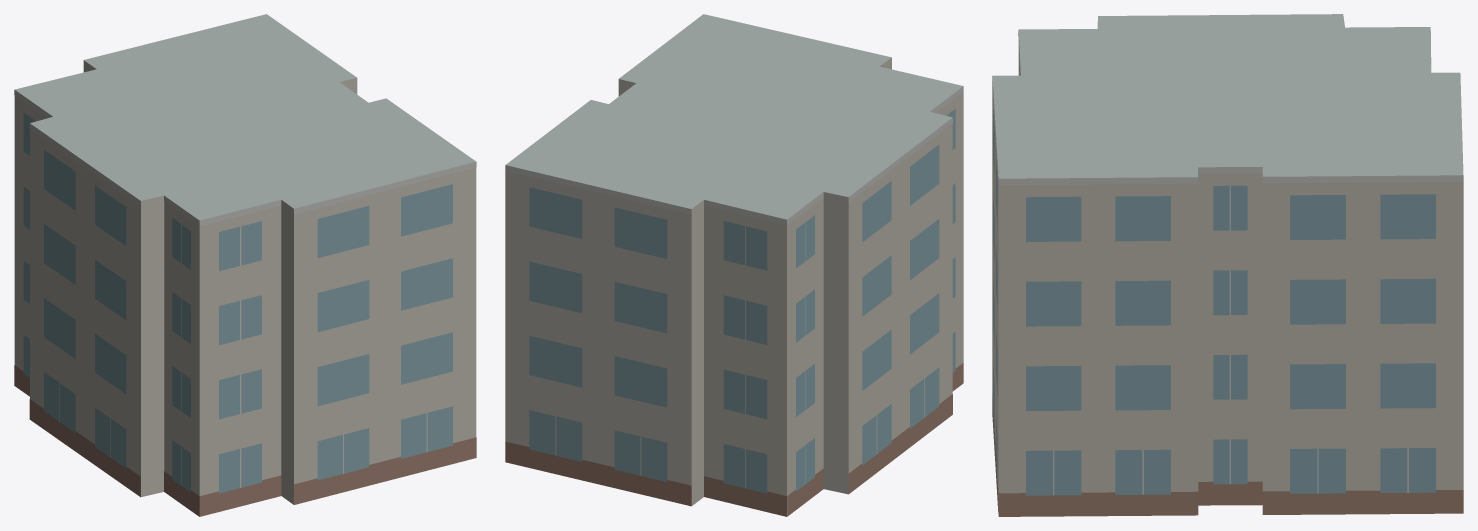
The model's file is survey-upis-32663638.glb.
3 renders of one model, left to right at view 1: azimuth 30°, elevation 25°; view 2: azimuth 150°, elevation 25°; view 3: azimuth 270°, elevation 25°, orthographic. The views are drawn at different scales.
Parts seen in each view (by area): view 1: survey-upis-32663638.tmp; view 2: survey-upis-32663638.tmp; view 3: survey-upis-32663638.tmp.
Part boxes in pixels (x1=…): survey-upis-32663638.tmp: x1=14, y1=14, x2=476, y2=516; survey-upis-32663638.tmp: x1=505, y1=14, x2=963, y2=516; survey-upis-32663638.tmp: x1=992, y1=14, x2=1463, y2=516.
Size of the model in its own units: 13.22 by 12.65 by 15.98.
